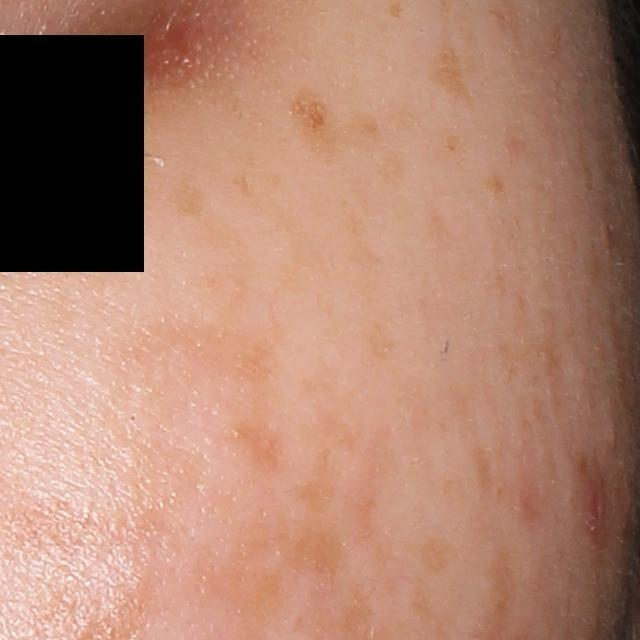melasma: (186, 518, 355, 618), (126, 307, 291, 396), (344, 422, 405, 545), (374, 535, 437, 627), (226, 417, 295, 482), (294, 441, 339, 519), (538, 309, 568, 426), (290, 86, 339, 151), (429, 36, 471, 108), (420, 532, 464, 571), (165, 184, 207, 220), (366, 320, 400, 361), (373, 144, 410, 181), (470, 444, 495, 493), (482, 171, 509, 196), (440, 131, 462, 153)
